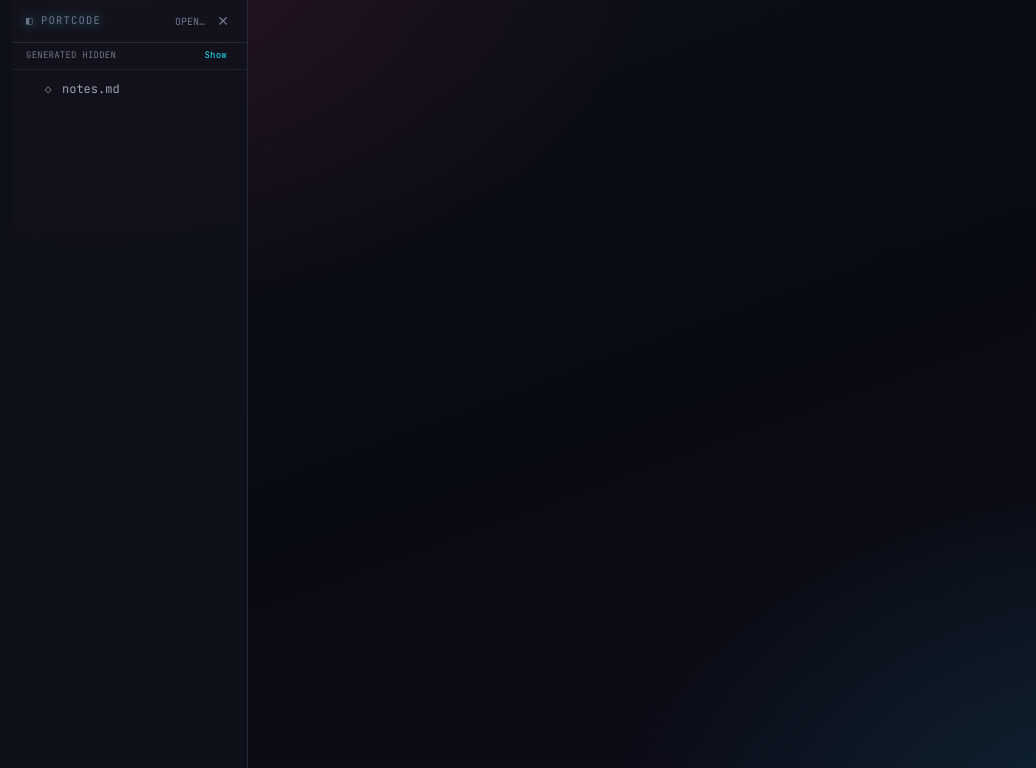
FileExplorer right-click context menu › opens a file menu with Copy path only (no Insert into composer, no Expand/Collapse)
Right-click the list item "◇ notes.md".
right_click(130, 88)  # box x1=12 y1=76 x2=247 y2=102
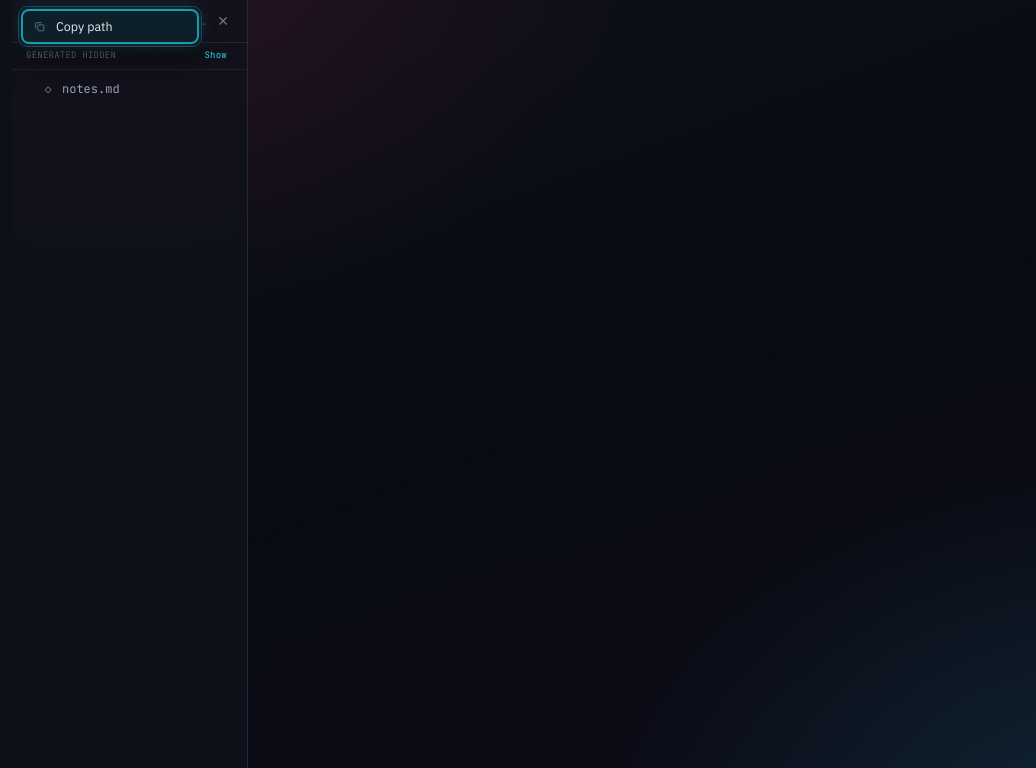
Now the menu item "Copy path" is shown, box x1=23 y1=11 x2=197 y2=42
